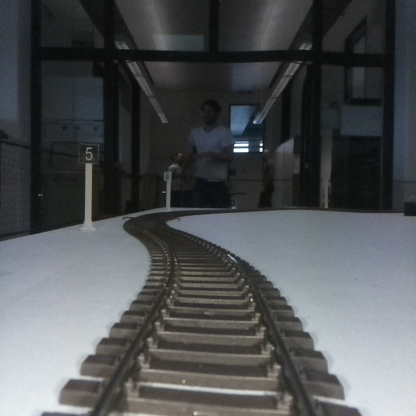black-info-5: (79, 142, 98, 228)
white-info-6: (164, 171, 171, 210)
